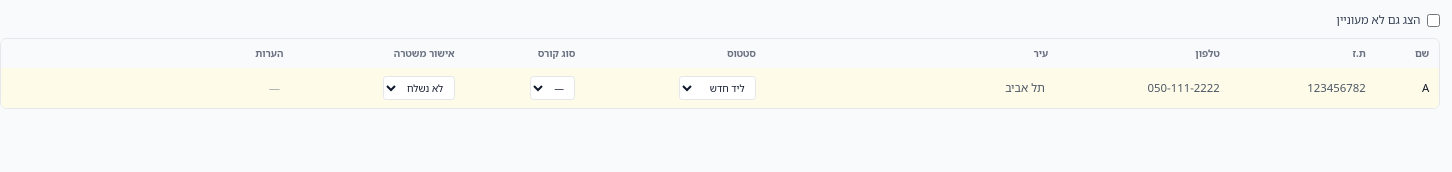
LeadsTable — desktop table › hides 'לא מעוניין' rows by default and reveals them when checkbox toggled
Expected: the text "A" is shown, [1422, 80, 1429, 95]
Expected: the text "B" is not shown
Click the checkbox labelled "הצג גם לא מעוניין" at (1434, 20), box [1427, 14, 1440, 27]
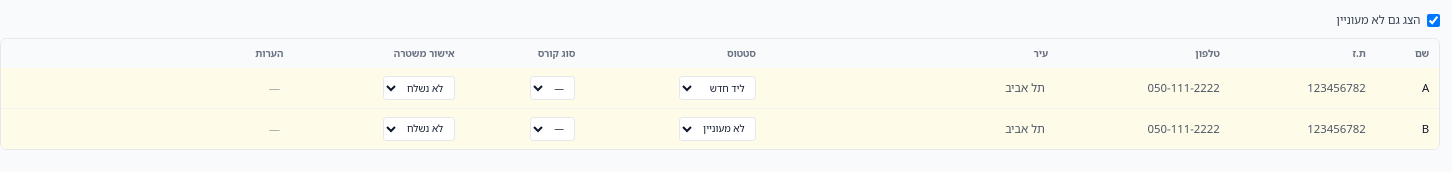
Expected: the text "A" is shown, [1422, 80, 1429, 95]
Now the text "B" is shown, box [1422, 121, 1429, 136]
